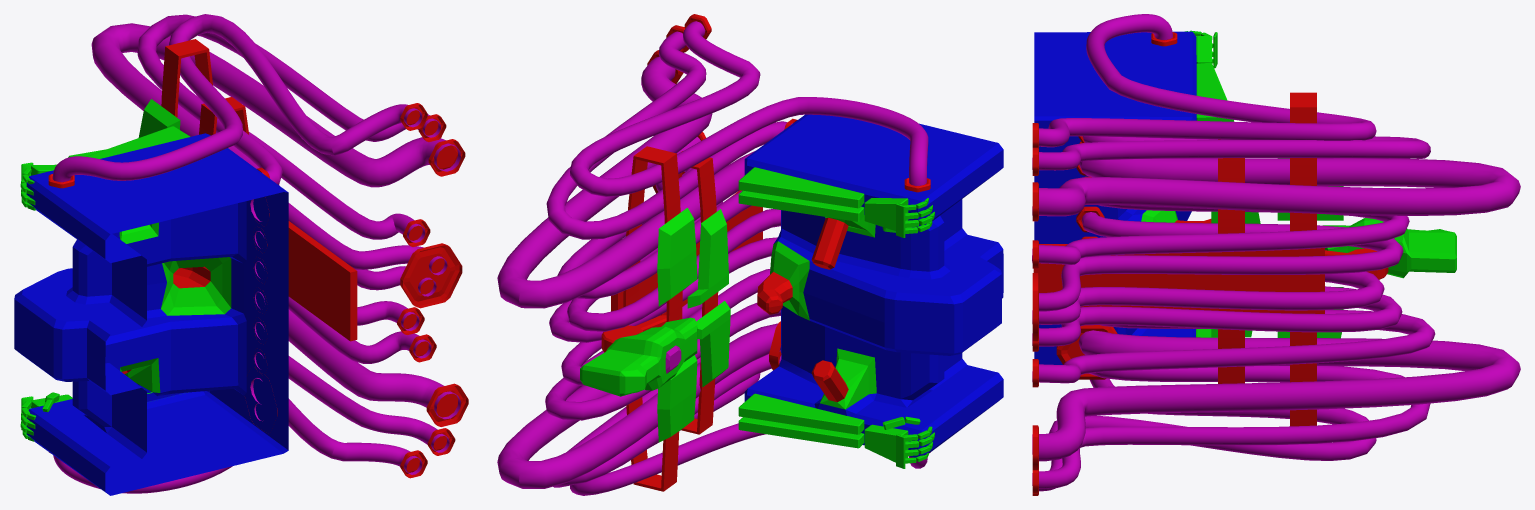
File: MeTrone.FBX
The picture shows the model from 3 angles, left to right: view 1: azimuth 30°, elevation 25°; view 2: azimuth 150°, elevation 25°; view 3: azimuth 270°, elevation 25°; orthographic projection.
Visible parts, largest first — view 1: Trone, TuyauxTrone; view 2: Trone, TuyauxTrone; view 3: TuyauxTrone, Trone.
Part boxes in pixels (bbox=[...]): Trone: bbox=[14, 39, 357, 495]; TuyauxTrone: bbox=[48, 14, 468, 493]; Trone: bbox=[580, 114, 1003, 491]; TuyauxTrone: bbox=[497, 14, 930, 495]; TuyauxTrone: bbox=[1032, 14, 1520, 495]; Trone: bbox=[1033, 30, 1456, 426].
Size of the model in its own units: 232 by 213 by 256.
